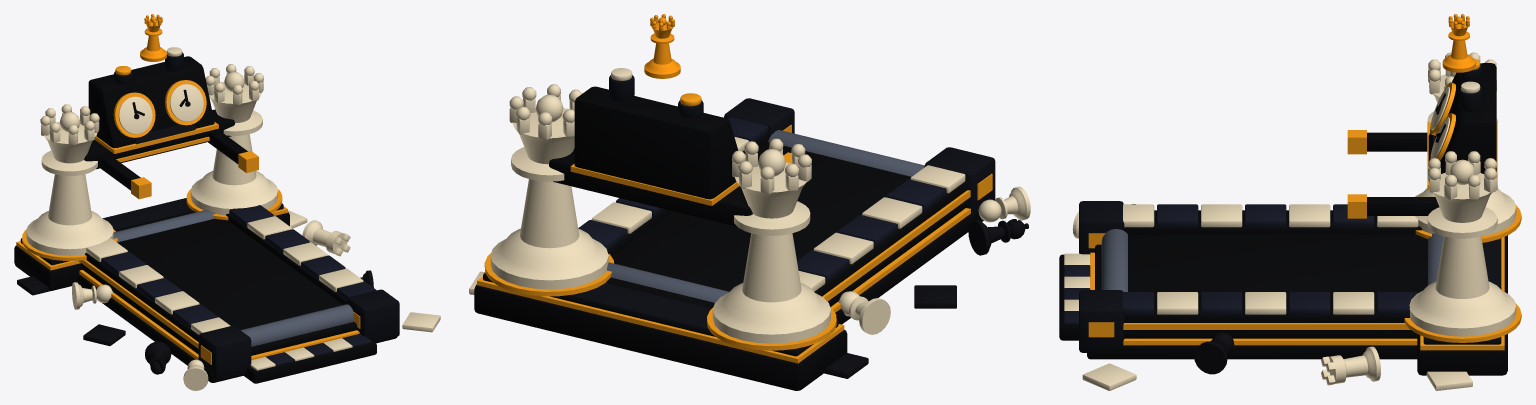
Rendered from QueenDash.obj.
3 renders of one model, left to right at view 1: azimuth 30°, elevation 25°; view 2: azimuth 150°, elevation 25°; view 3: azimuth 270°, elevation 25°, orthographic. The views are drawn at different scales.
Visible parts, largest first — view 1: QueenDash_Chess, QueenDash_Body, QueenDash_Belt, QueenDash_Neon, QueenDash_Panel, QueenDash_Square, QueenDash_Steel, QueenDash_Spill, QueenDash_Prop; view 2: QueenDash_Chess, QueenDash_Body, QueenDash_Belt, QueenDash_Neon, QueenDash_Panel, QueenDash_Square, QueenDash_Steel, QueenDash_Spill, QueenDash_Prop; view 3: QueenDash_Chess, QueenDash_Body, QueenDash_Belt, QueenDash_Neon, QueenDash_Square, QueenDash_Panel, QueenDash_Steel, QueenDash_Prop, QueenDash_Spill.
Boxes of the visible parts, bbox=[...] form: QueenDash_Chess: bbox=[26, 47, 440, 390]; QueenDash_Body: bbox=[14, 56, 396, 383]; QueenDash_Belt: bbox=[115, 210, 342, 329]; QueenDash_Neon: bbox=[16, 66, 360, 364]; QueenDash_Panel: bbox=[20, 52, 399, 380]; QueenDash_Square: bbox=[101, 205, 376, 365]; QueenDash_Steel: bbox=[113, 210, 354, 346]; QueenDash_Spill: bbox=[17, 270, 373, 374]; QueenDash_Prop: bbox=[140, 14, 166, 61]; QueenDash_Chess: bbox=[469, 68, 1030, 343]; QueenDash_Body: bbox=[474, 86, 983, 390]; QueenDash_Belt: bbox=[606, 142, 910, 308]; QueenDash_Neon: bbox=[477, 93, 992, 363]; QueenDash_Panel: bbox=[483, 75, 995, 356]; QueenDash_Square: bbox=[578, 117, 946, 281]; QueenDash_Steel: bbox=[607, 130, 924, 302]; QueenDash_Spill: bbox=[824, 219, 1028, 378]; QueenDash_Prop: bbox=[644, 14, 680, 78]; QueenDash_Chess: bbox=[1064, 52, 1516, 390]; QueenDash_Body: bbox=[1059, 63, 1507, 375]; QueenDash_Belt: bbox=[1128, 234, 1427, 297]; QueenDash_Neon: bbox=[1088, 59, 1521, 350]; QueenDash_Square: bbox=[1064, 204, 1417, 324]; QueenDash_Panel: bbox=[1079, 65, 1501, 352]; QueenDash_Steel: bbox=[1101, 229, 1443, 291]; QueenDash_Prop: bbox=[1442, 14, 1475, 72]; QueenDash_Spill: bbox=[1132, 204, 1234, 374].
Bounding box in the file's own units: 12.64 × 9.84 × 14.27.
